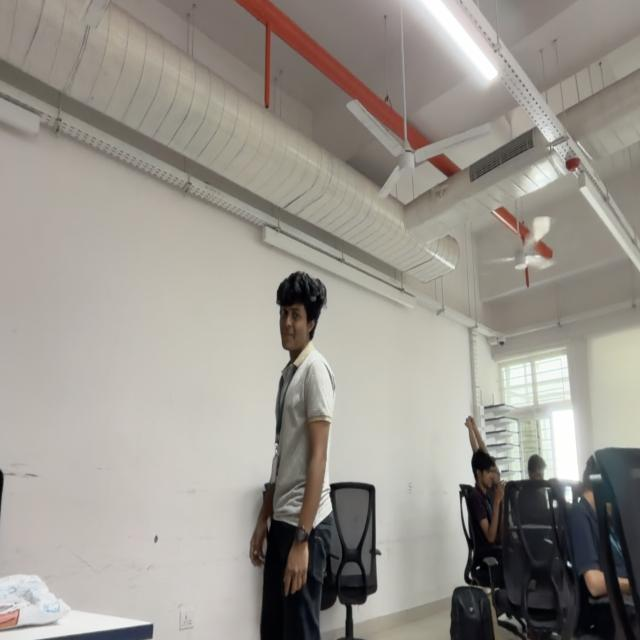kshitij: (276, 272, 327, 354)
